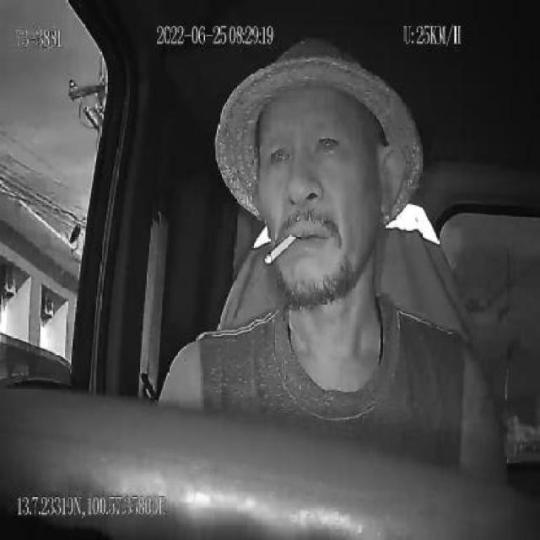smoking: (264, 230, 297, 270)
